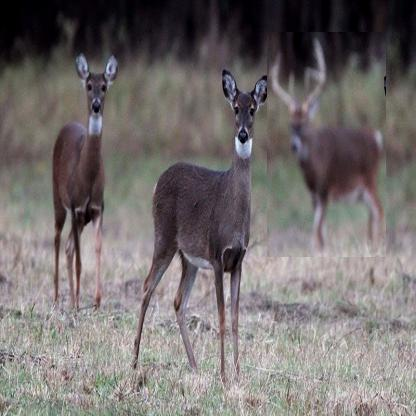Deer: (129, 66, 272, 380), (267, 32, 386, 257), (51, 46, 121, 318)
